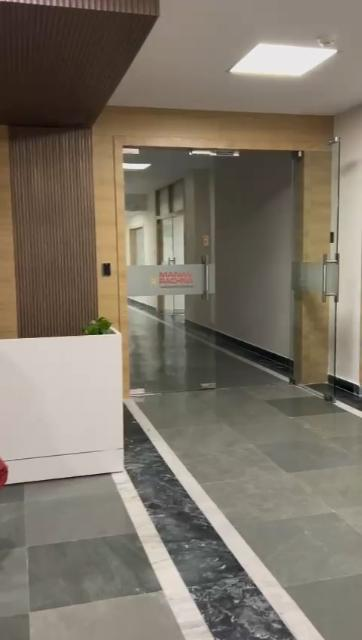floor: (0, 346, 362, 640)
wall: (220, 170, 290, 346)
